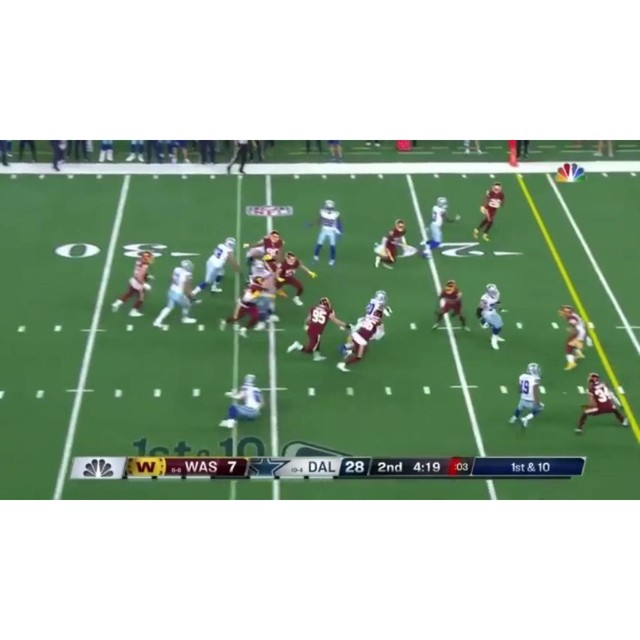american-football-player: (287, 297, 343, 362), (574, 373, 628, 434), (154, 259, 198, 330), (111, 251, 155, 316), (339, 310, 382, 372), (223, 274, 266, 335), (194, 237, 238, 296), (218, 375, 264, 431), (507, 362, 546, 428), (420, 196, 460, 258), (556, 304, 593, 371), (276, 252, 317, 307), (311, 199, 344, 267), (476, 285, 508, 350), (472, 181, 506, 242), (432, 278, 468, 332), (373, 219, 408, 270), (364, 290, 393, 342)
